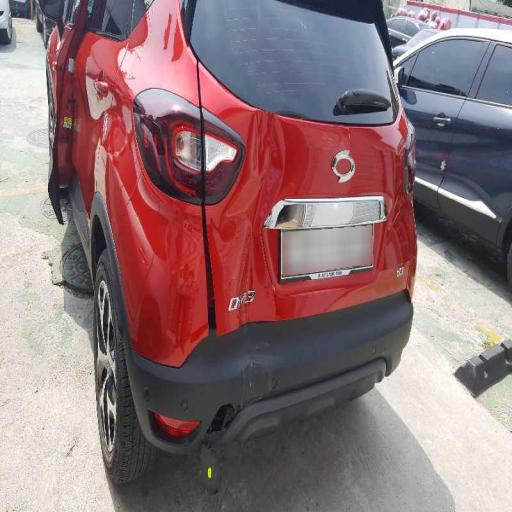broken: (179, 48, 233, 332), (168, 383, 243, 492)
dent: (229, 106, 404, 285)
